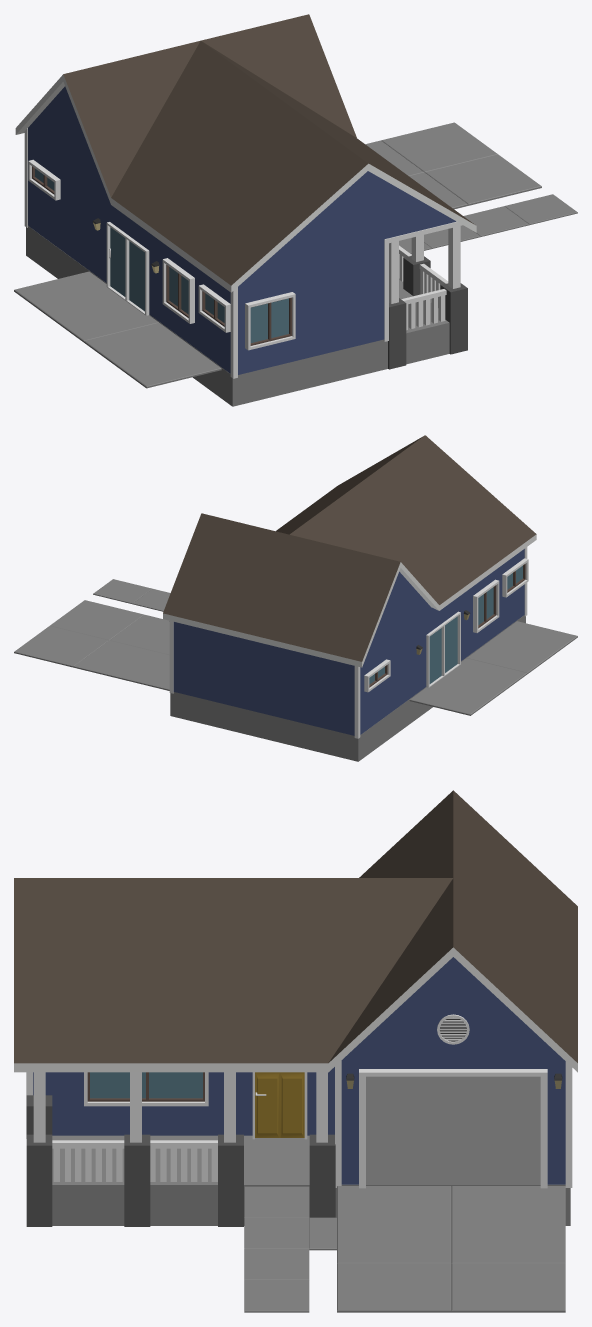
The model's file is Proto_HouseSmall_Blue.fbx.
The picture shows the model from 3 angles, top to bottom: view 1: azimuth 30°, elevation 25°; view 2: azimuth 150°, elevation 25°; view 3: azimuth 270°, elevation 25°; orthographic projection. The views are drawn at different scales.
Parts seen in each view (by area): view 1: HouseSmall_Blue; view 2: HouseSmall_Blue; view 3: HouseSmall_Blue.
Part boxes in pixels (x1,y1,x2,y2): HouseSmall_Blue: (14,14,577,406); HouseSmall_Blue: (14,435,577,761); HouseSmall_Blue: (14,790,577,1312).
Bounding box in the file's own units: 32.35 × 13.28 × 24.02.
